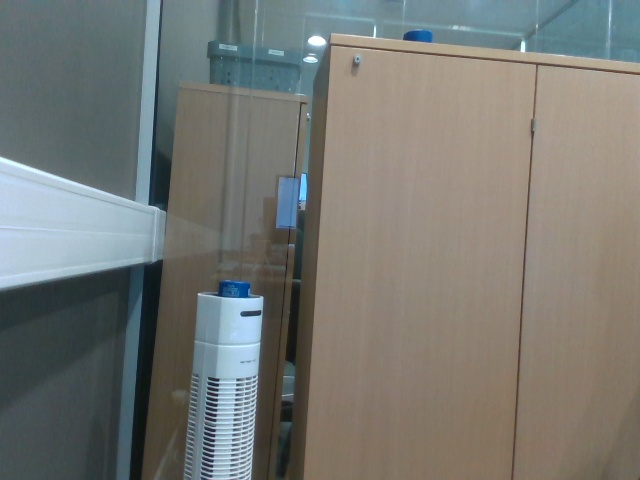alfa: (212, 272, 254, 307), (397, 22, 441, 49)
